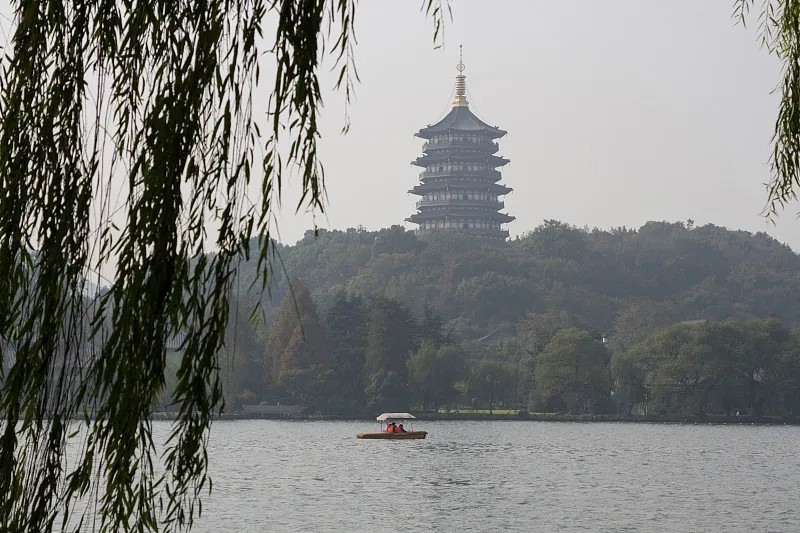Leifeng: (406, 44, 515, 242)
